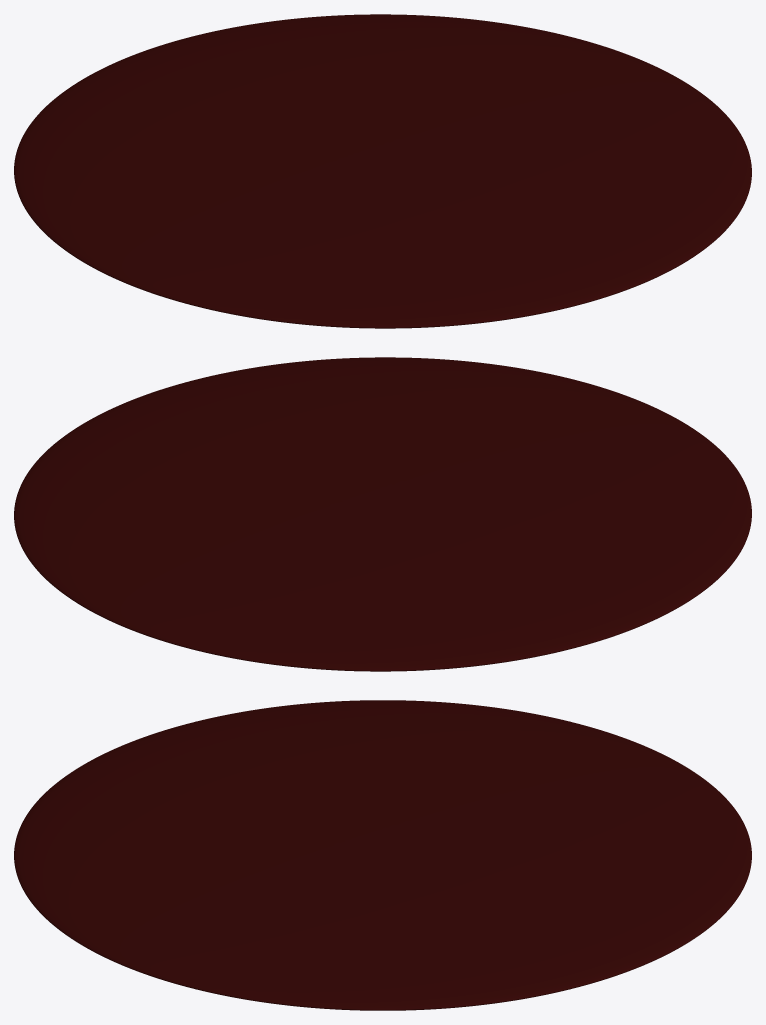
File: SUGO NEL MESTOLO.fbx
3 views of the same model, one above another, from view 1: azimuth 30°, elevation 25°; view 2: azimuth 150°, elevation 25°; view 3: azimuth 270°, elevation 25° (orthographic).
Parts seen in each view (by area): view 1: Sphere; view 2: Sphere; view 3: Sphere.
Boxes of the visible parts, left/top/right/bottom form: Sphere: left=14, top=14, right=751, bottom=328; Sphere: left=14, top=357, right=751, bottom=671; Sphere: left=14, top=700, right=751, bottom=1010.
Size of the model in its own units: 13.2 by 0.5171 by 13.3.
